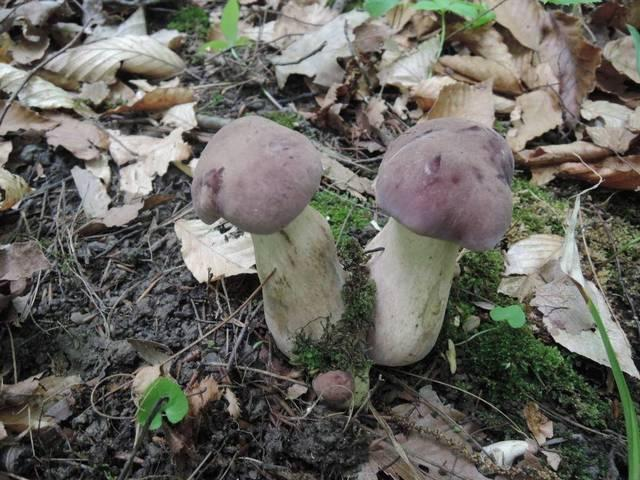Non-edible Mushroom: (189, 113, 352, 364), (360, 115, 515, 367)
